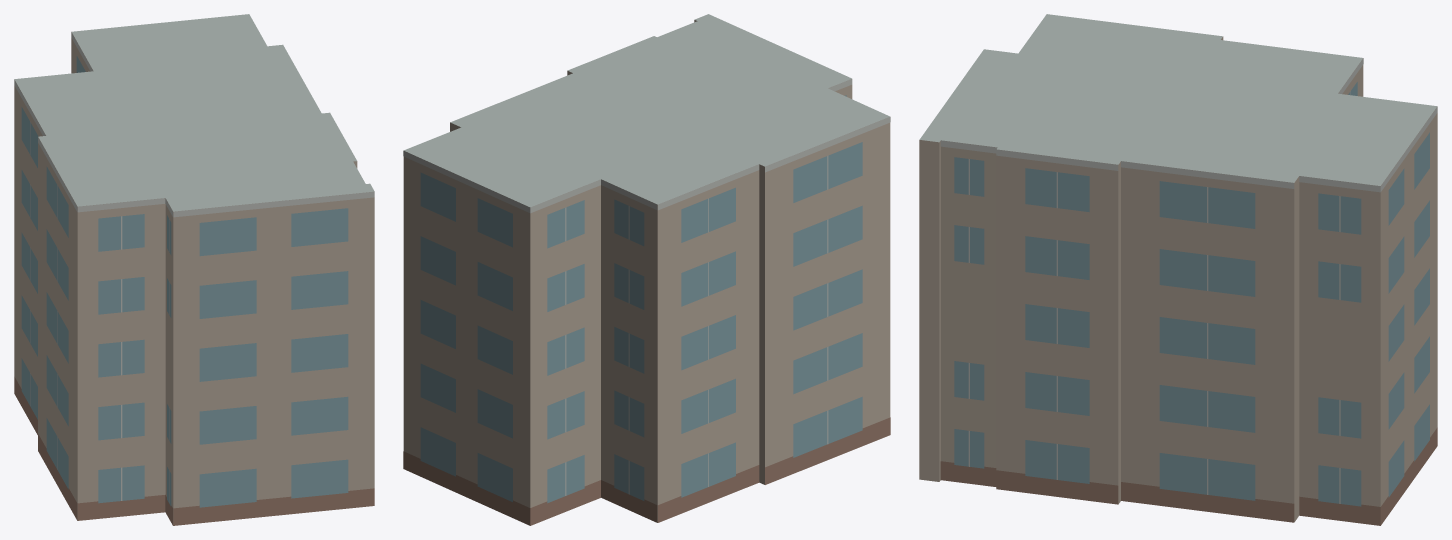
The model's file is survey-upis-32721694.glb.
The picture shows the model from 3 angles, left to right: view 1: azimuth 30°, elevation 25°; view 2: azimuth 150°, elevation 25°; view 3: azimuth 270°, elevation 25°; orthographic projection. The views are drawn at different scales.
Parts seen in each view (by area): view 1: survey-upis-32721694.tmp; view 2: survey-upis-32721694.tmp; view 3: survey-upis-32721694.tmp.
Boxes of the visible parts, left/top/right/bottom form: survey-upis-32721694.tmp: left=14, top=14, right=374, bottom=525; survey-upis-32721694.tmp: left=403, top=14, right=890, bottom=525; survey-upis-32721694.tmp: left=919, top=14, right=1437, bottom=525.
Size of the model in its own units: 14.4 by 13.25 by 18.32.
